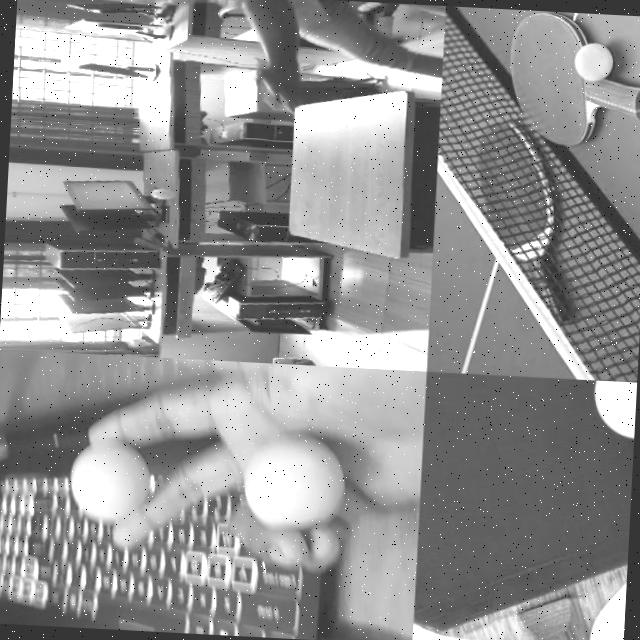ping-pong-ball: (240, 436, 346, 531), (67, 442, 154, 523), (592, 381, 638, 436), (573, 42, 614, 84), (152, 188, 176, 199)
